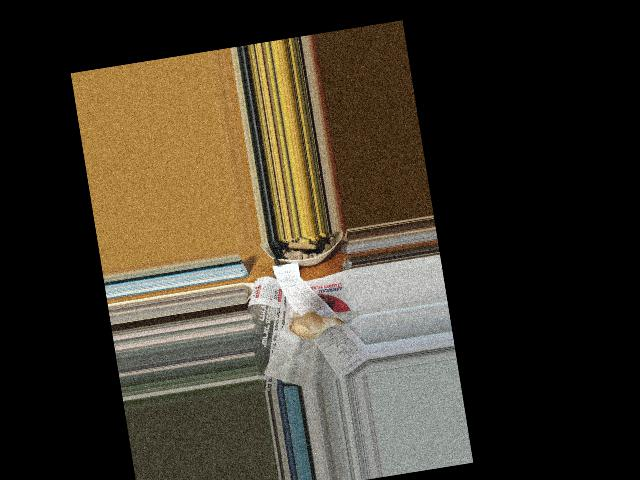onion: (284, 308, 333, 339)
